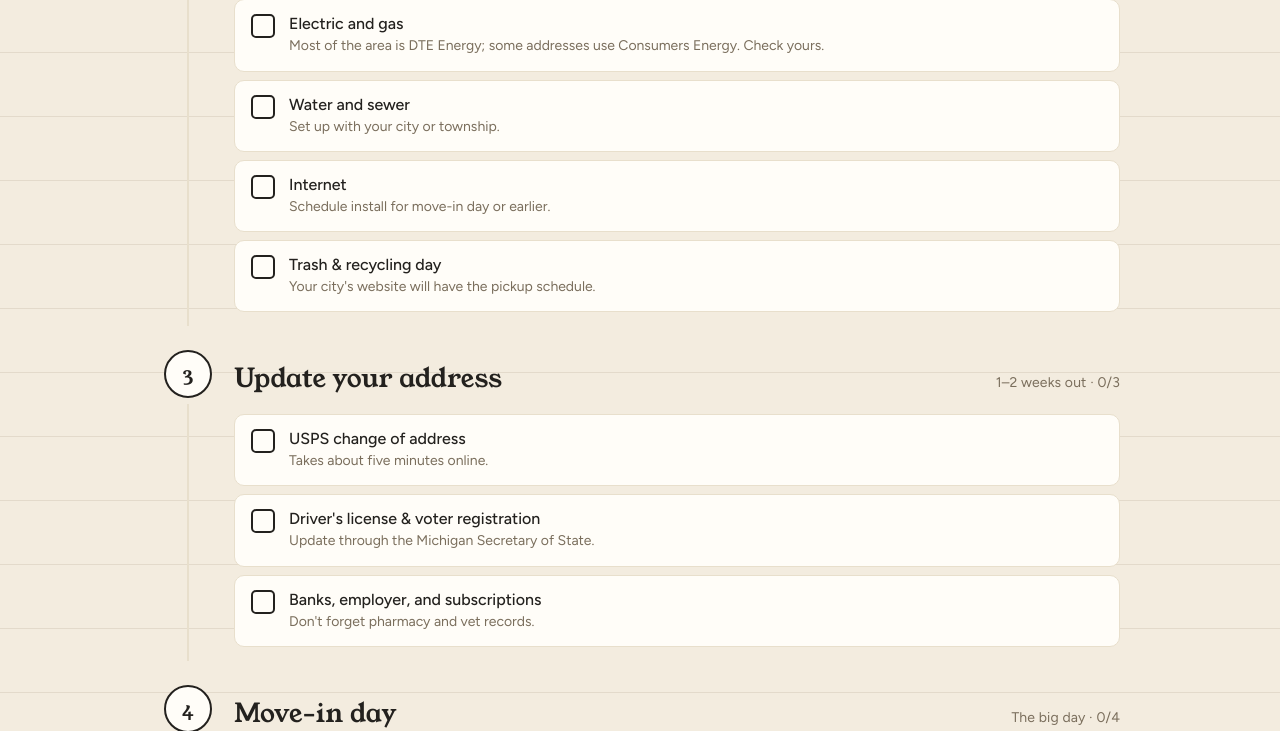
it: pages render with sample data › To-dos tracks progress and shows box labels on Moving day
This screenshot has width=1280, height=731.
(page scrolled)
Click the checkbox labelled "USPS change of address Takes about five minutes online." at coordinates (377, 439), box left=234, top=414, right=1120, bottom=486
(page scrolled)
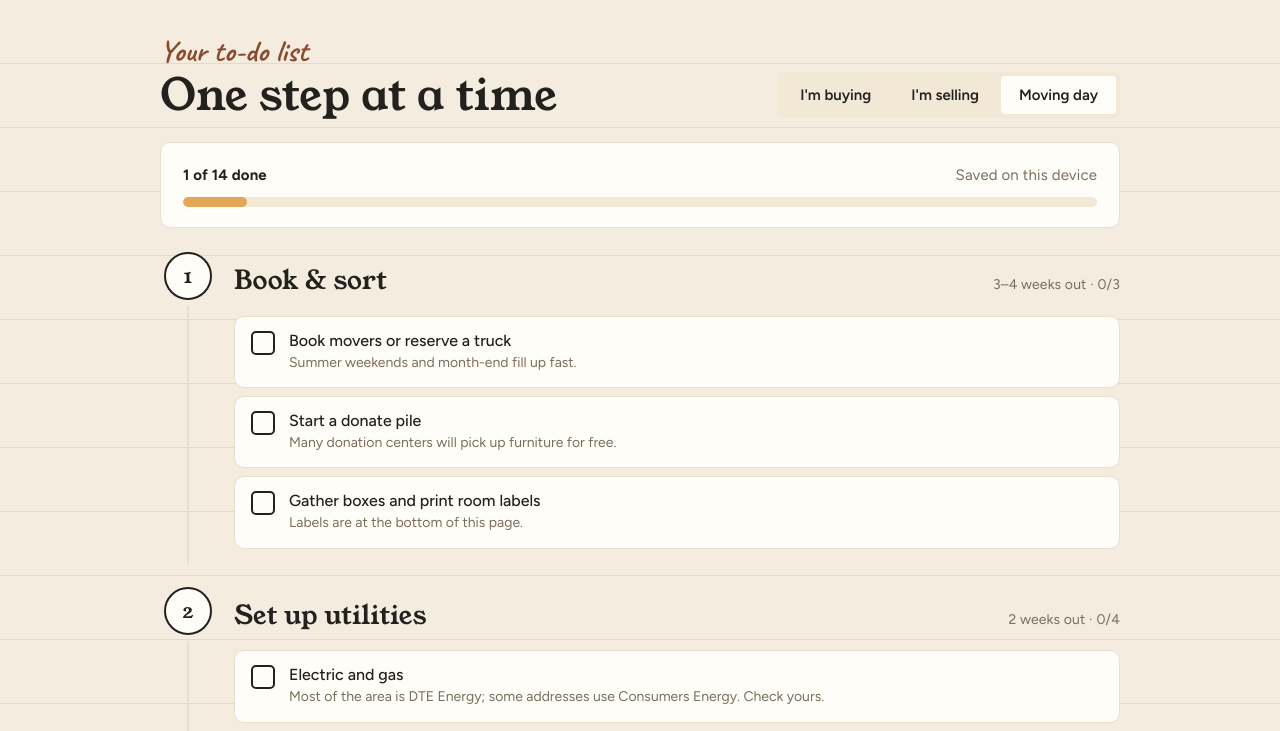
Now the text "1 of 14 done" is shown, box left=183, top=163, right=267, bottom=187
